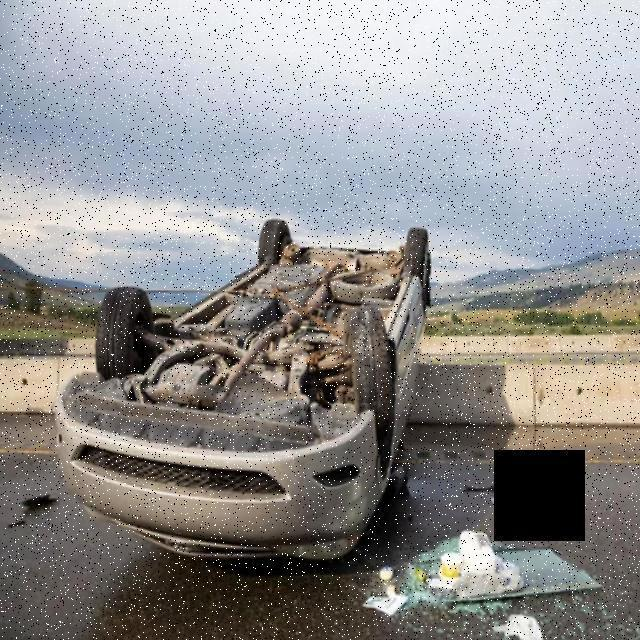accident: (50, 204, 437, 572)
